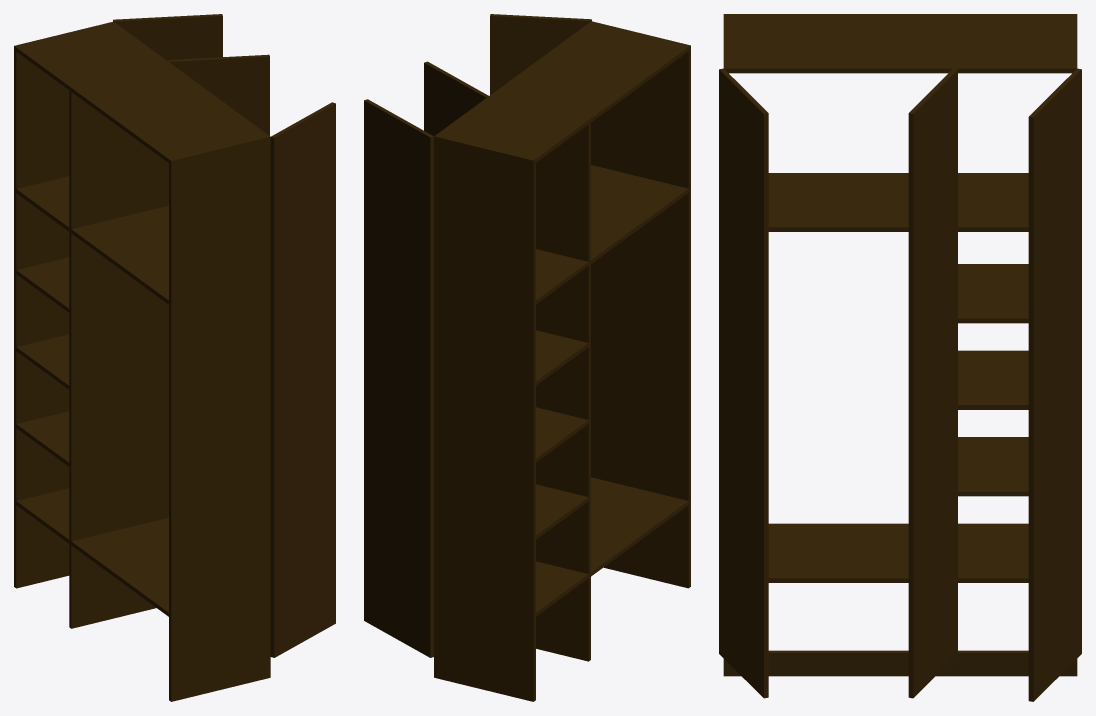
File: closet-template7.glb
3 views of the same model, side by side, from view 1: azimuth 30°, elevation 25°; view 2: azimuth 150°, elevation 25°; view 3: azimuth 270°, elevation 25° (orthographic). The views are drawn at different scales.
Parts seen in each view (by area): view 1: side_left, side_middle, Cube, side_rigth, top, shelf_big.001, shelf_big, Cube.003, Cube.004, shelf.001, shelf.002, shelf (+2 smaller); view 2: side_rigth, side_left, Cube.004, side_middle, top, shelf_big.001, shelf_big, Cube, Cube.003, shelf, shelf.001, shelf.004 (+2 smaller); view 3: Cube.004, Cube.003, Cube, top, shelf_big.001, shelf_big, shelf, shelf.002, shelf.003, shelf.004, shelf.001, Cube.002 (+1 smaller).
Part boxes in pixels (x1=…): side_left: x1=169, y1=141, x2=270, y2=701; side_middle: x1=69, y1=91, x2=168, y2=628; Cube: x1=270, y1=102, x2=335, y2=657; side_rigth: x1=14, y1=50, x2=69, y2=588; top: x1=14, y1=21, x2=270, y2=164; shelf_big.001: x1=71, y1=517, x2=168, y2=616; shelf_big: x1=71, y1=205, x2=168, y2=304; Cube.003: x1=168, y1=54, x2=269, y2=135; Cube.004: x1=113, y1=14, x2=222, y2=60; shelf.001: x1=16, y1=176, x2=69, y2=231; shelf.002: x1=16, y1=334, x2=69, y2=389; shelf: x1=16, y1=257, x2=69, y2=312; side_rigth: x1=434, y1=140, x2=535, y2=701; side_left: x1=591, y1=50, x2=690, y2=588; Cube.004: x1=364, y1=99, x2=433, y2=657; side_middle: x1=536, y1=123, x2=590, y2=661; top: x1=434, y1=21, x2=690, y2=164; shelf_big.001: x1=591, y1=477, x2=688, y2=576; shelf_big: x1=591, y1=165, x2=688, y2=263; Cube: x1=490, y1=14, x2=591, y2=94; Cube.003: x1=424, y1=61, x2=488, y2=135; shelf: x1=536, y1=330, x2=588, y2=385; shelf.001: x1=536, y1=249, x2=588, y2=304; shelf.004: x1=536, y1=561, x2=588, y2=616; Cube.004: x1=1028, y1=68, x2=1081, y2=701; Cube.003: x1=908, y1=68, x2=957, y2=698; Cube: x1=719, y1=68, x2=768, y2=698; top: x1=723, y1=14, x2=1077, y2=73; shelf_big.001: x1=768, y1=523, x2=908, y2=582; shelf_big: x1=768, y1=173, x2=908, y2=231; shelf: x1=958, y1=264, x2=1028, y2=323; shelf.002: x1=958, y1=350, x2=1028, y2=409; shelf.003: x1=958, y1=437, x2=1028, y2=496; shelf.004: x1=958, y1=523, x2=1028, y2=582; shelf.001: x1=958, y1=173, x2=1028, y2=231; Cube.002: x1=729, y1=650, x2=948, y2=676.
Bounding box in the file's own units: 8.55 × 23.4 × 12.66.
